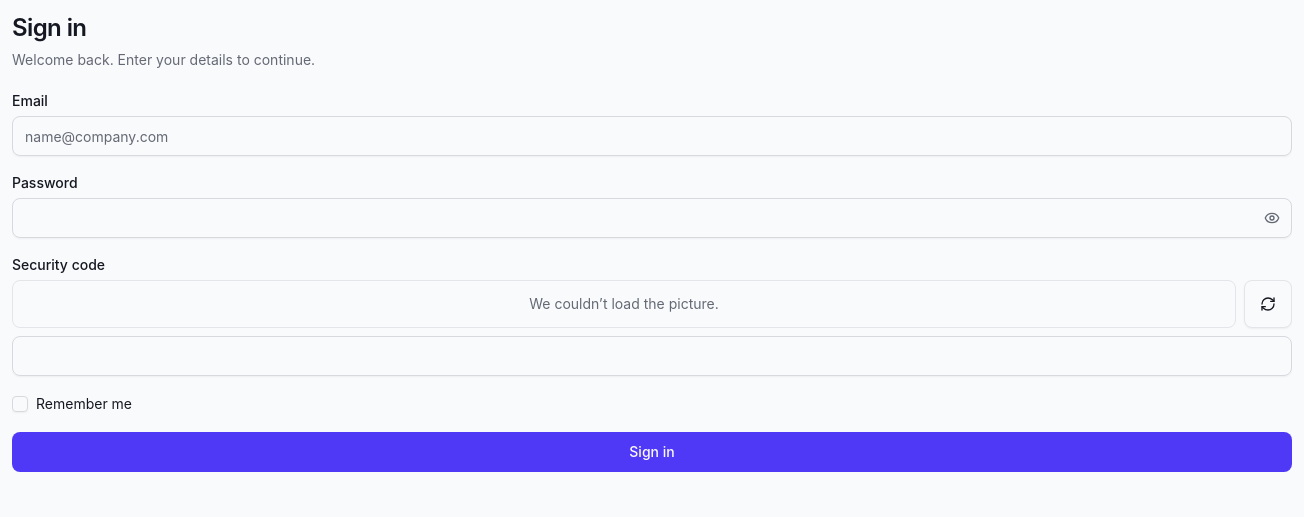
Test case: SignInForm › says when the captcha cannot be loaded and lets the person try again
Later steps or results of the test are not shown.
Check: the text "We couldn’t load the picture." is shown, box [517,294,731,314]
Type "ada@example.com" into the field labelled "Email" at (652, 136), box [12,116,1292,156]
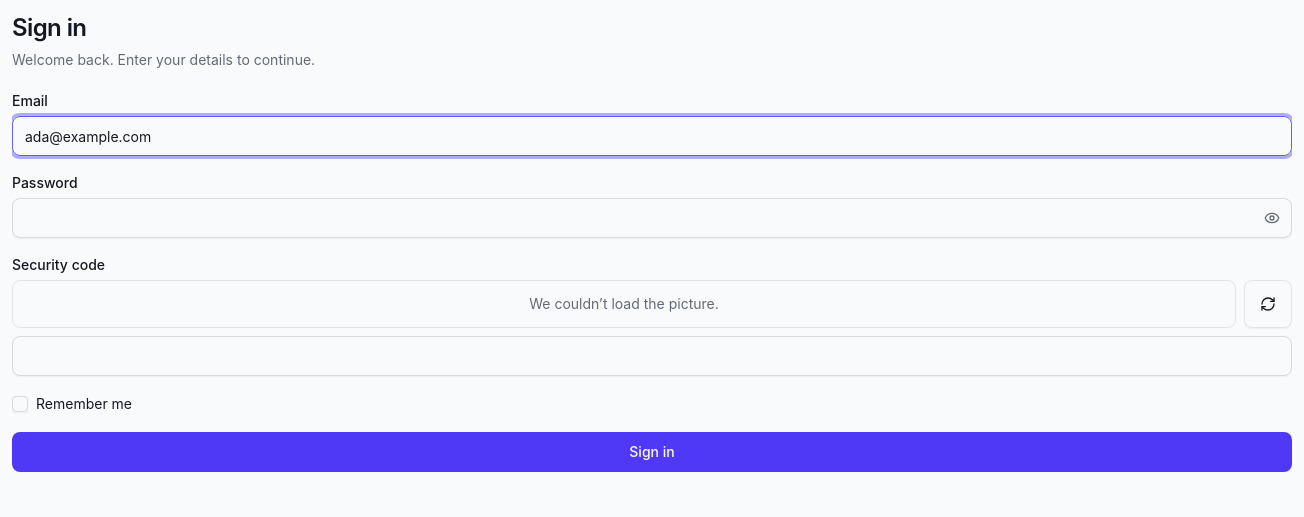
Type "password123" into the password field labelled "Password" at (652, 218), box [12,198,1292,238]
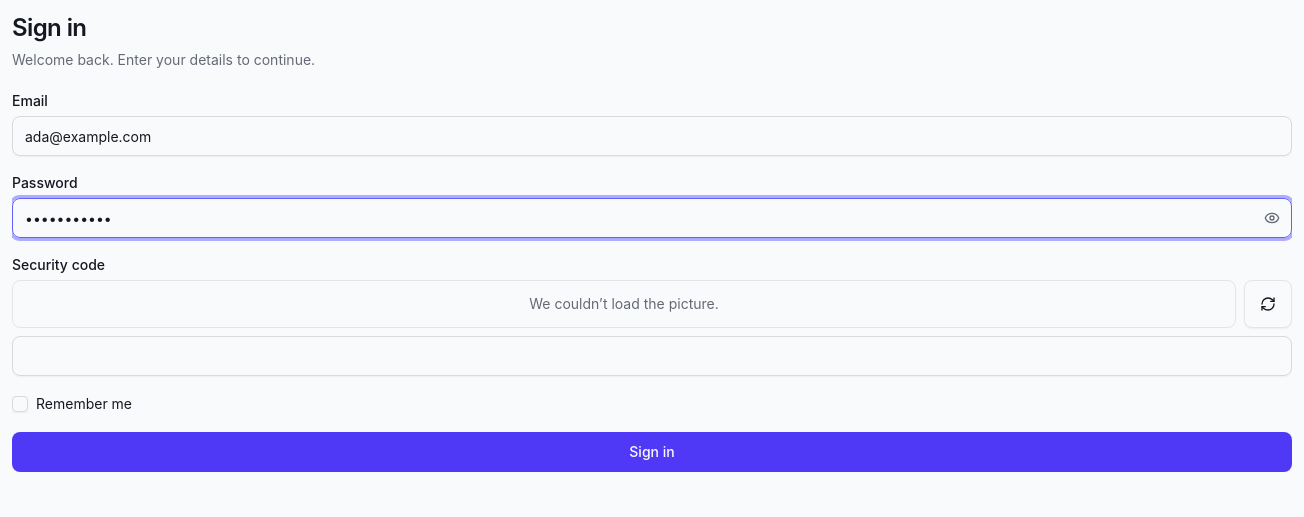
Type "QZWL" into the field labelled "Security code" at (652, 356), box [12,336,1292,376]
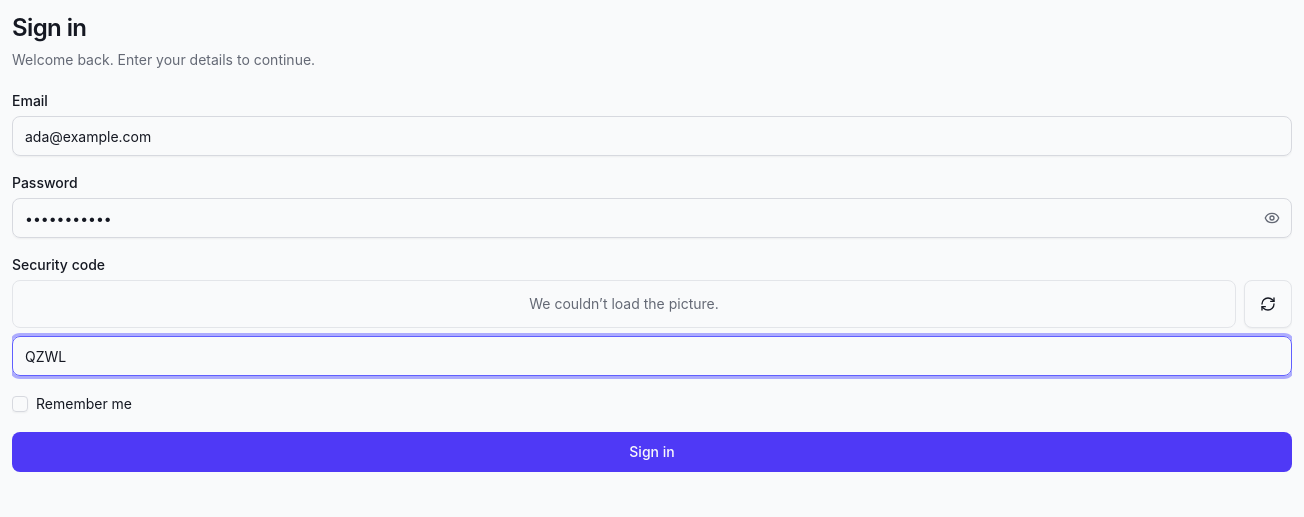
Click the button "Sign in" at (652, 452), box [12,432,1292,472]
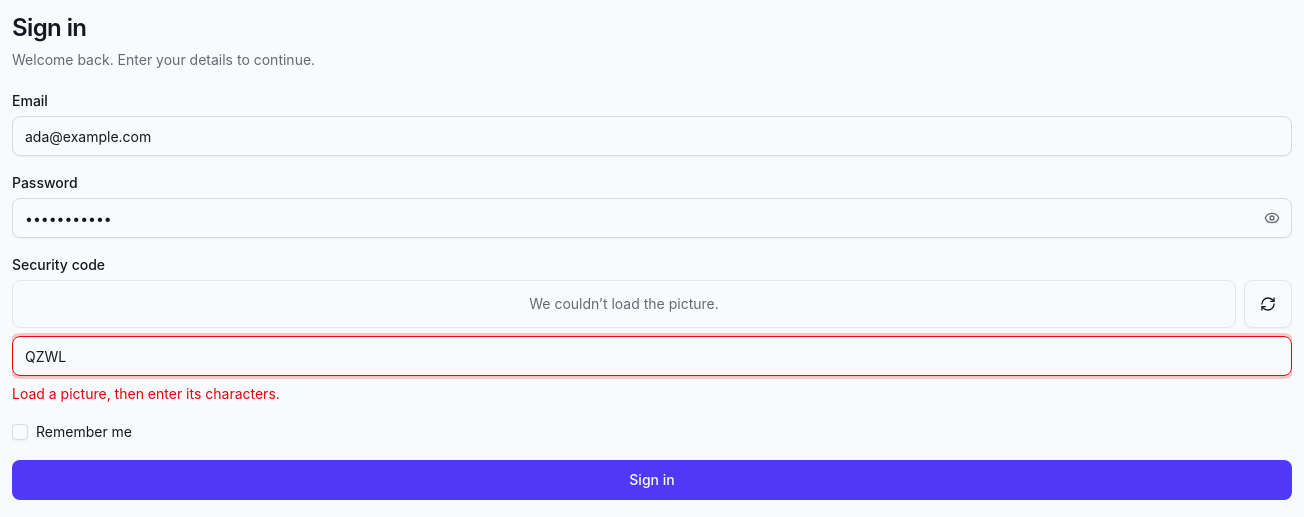
Check: the text "Load a picture, then enter its characters." is shown, box [12,385,280,402]
